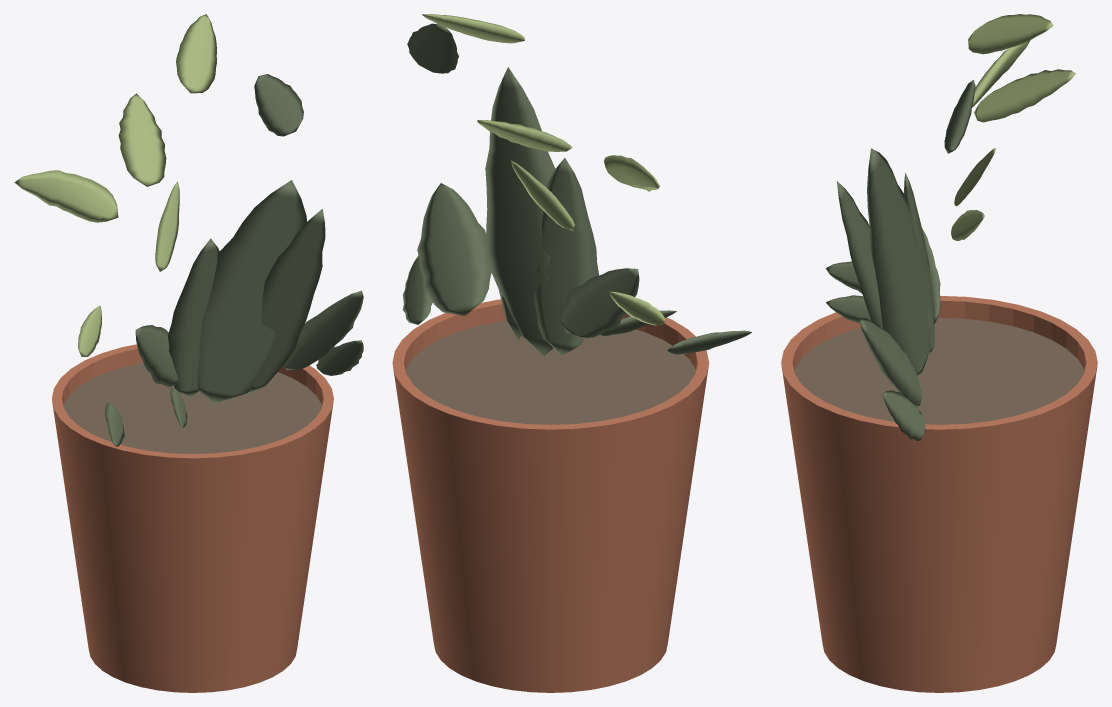
File: NPR_25_1044__MOD__GardenFurniture__PlantersAndPots__PottedPlantFlowerPot__Var-04__.glb
The picture shows the model from 3 angles, left to right: view 1: azimuth 30°, elevation 25°; view 2: azimuth 150°, elevation 25°; view 3: azimuth 270°, elevation 25°; orthographic projection. The views are drawn at different scales.
Visible parts, largest first — view 1: NPR_25_1044__MOD__GardenFurniture__PlantersAndPots__PottedPl; view 2: NPR_25_1044__MOD__GardenFurniture__PlantersAndPots__PottedPl; view 3: NPR_25_1044__MOD__GardenFurniture__PlantersAndPots__PottedPl.
Part boxes in pixels (x1,y1,x2,y2): NPR_25_1044__MOD__GardenFurniture__PlantersAndPots__PottedPl: (14,14,363,692); NPR_25_1044__MOD__GardenFurniture__PlantersAndPots__PottedPl: (392,14,751,692); NPR_25_1044__MOD__GardenFurniture__PlantersAndPots__PottedPl: (781,14,1097,692).
Size of the model in its own units: 0.5877 by 1.14 by 0.5.
